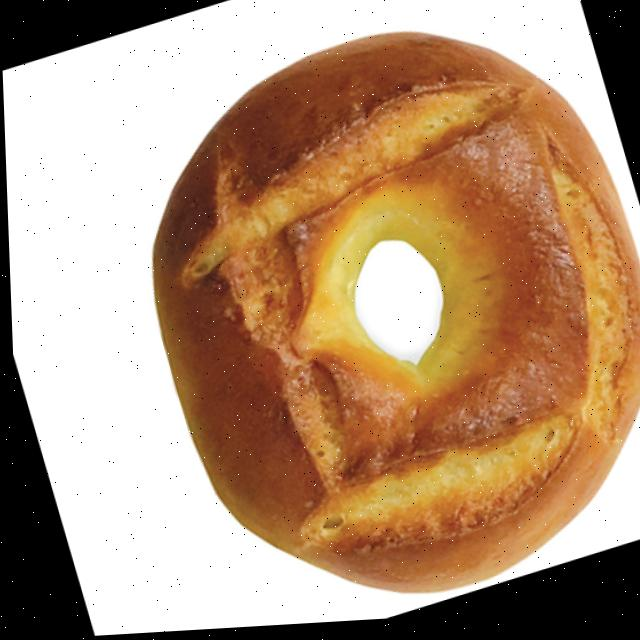Bagel: (153, 38, 640, 597)
